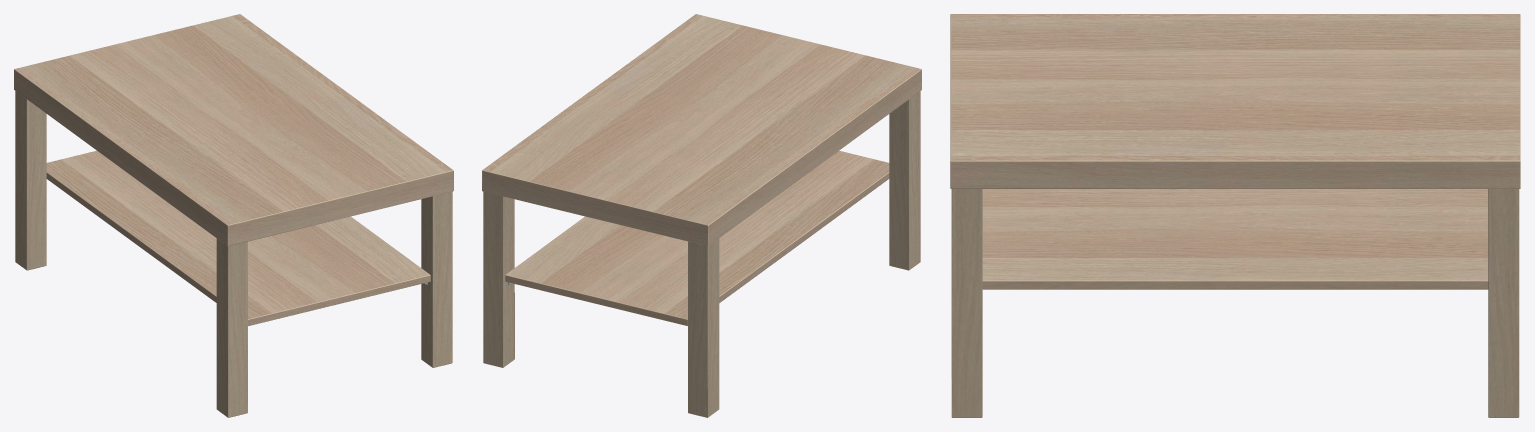
3 views of the same model, side by side, from view 1: azimuth 30°, elevation 25°; view 2: azimuth 150°, elevation 25°; view 3: azimuth 270°, elevation 25° (orthographic). The views are drawn at different scales.
Visible parts, largest first — view 1: model; view 2: model; view 3: model.
Part boxes in pixels (box(x1,y1,x2,y2)): model: box(14, 14, 453, 417); model: box(482, 14, 921, 417); model: box(950, 14, 1520, 417).
Size of the model in its own units: 0.55 by 0.449 by 0.9.
Materials: 1 (1 with a texture image).
